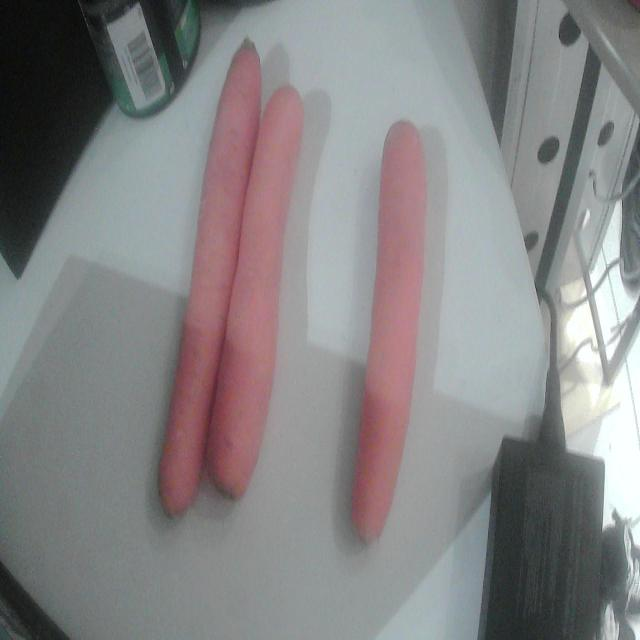Carrot: (159, 45, 261, 516), (206, 87, 304, 499), (351, 121, 426, 543)
